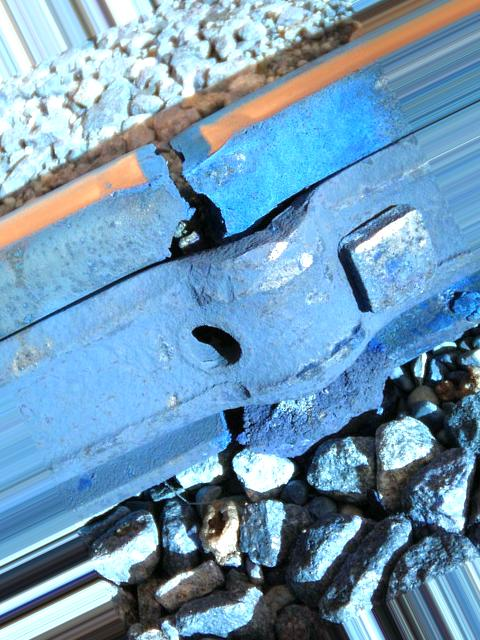tracks_fault: (119, 120, 408, 476)
